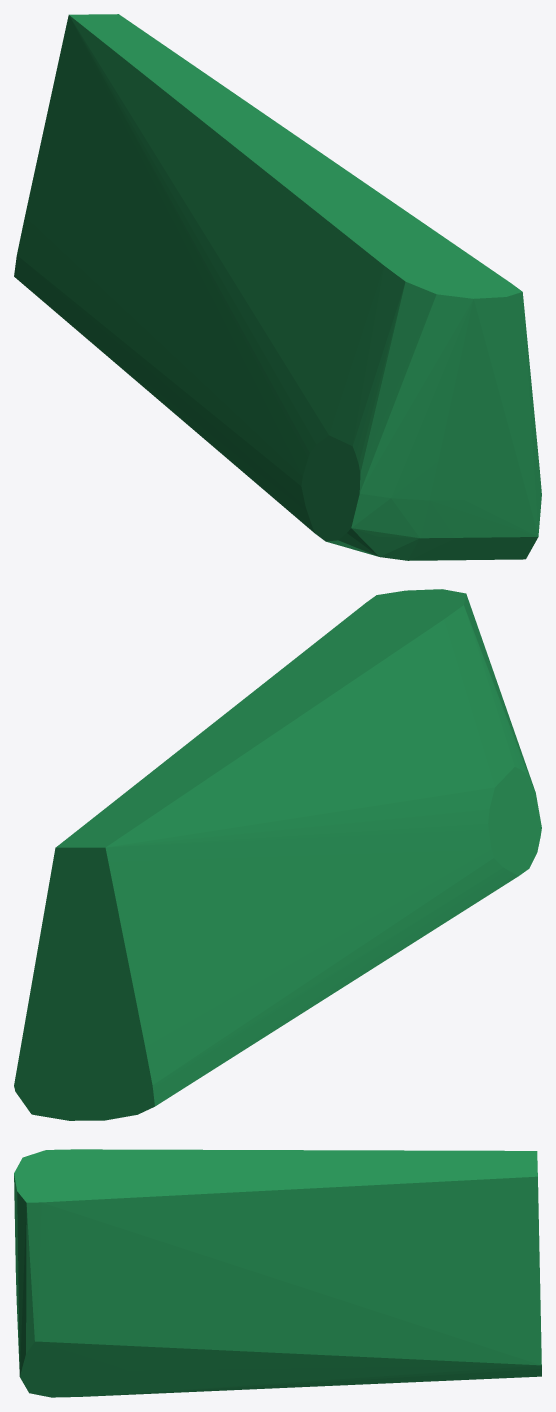
File: converted_Downdraft_Assy_collision_71_269858ff.obj
3 views of the same model, one above another, from view 1: azimuth 30°, elevation 25°; view 2: azimuth 150°, elevation 25°; view 3: azimuth 270°, elevation 25° (orthographic). The views are drawn at different scales.
Size of the model in its own units: 0.0834 by 0.1231 by 0.2733.
